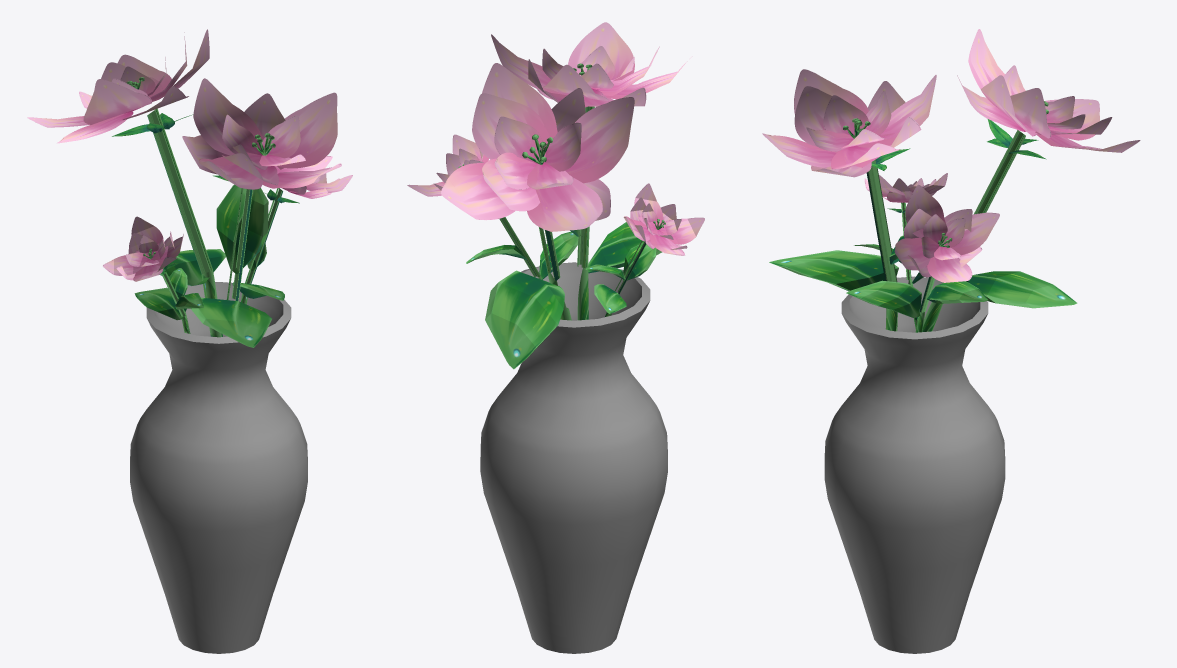
Rendered from PinkFlowers_LongVase.FBX.
3 renders of one model, left to right at view 1: azimuth 30°, elevation 25°; view 2: azimuth 150°, elevation 25°; view 3: azimuth 270°, elevation 25°, orthographic. The views are drawn at different scales.
Visible parts, largest first — view 1: Cylinder001; view 2: Cylinder001; view 3: Cylinder001.
Part boxes in pixels (left/top/right/bottom): Cylinder001: left=27, top=29, right=352, bottom=653; Cylinder001: left=407, top=22, right=704, bottom=653; Cylinder001: left=762, top=29, right=1140, bottom=653.
Size of the model in its own units: 36.04 by 73.94 by 47.23.
4 materials, 3 textured.
